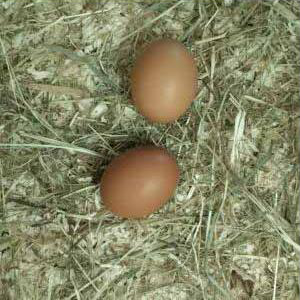egg: (100, 147, 179, 217), (130, 40, 197, 122)
